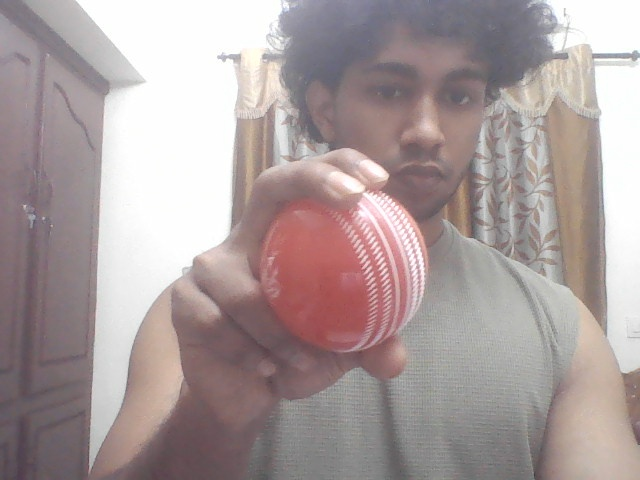cricket_ball: (258, 181, 431, 356)
